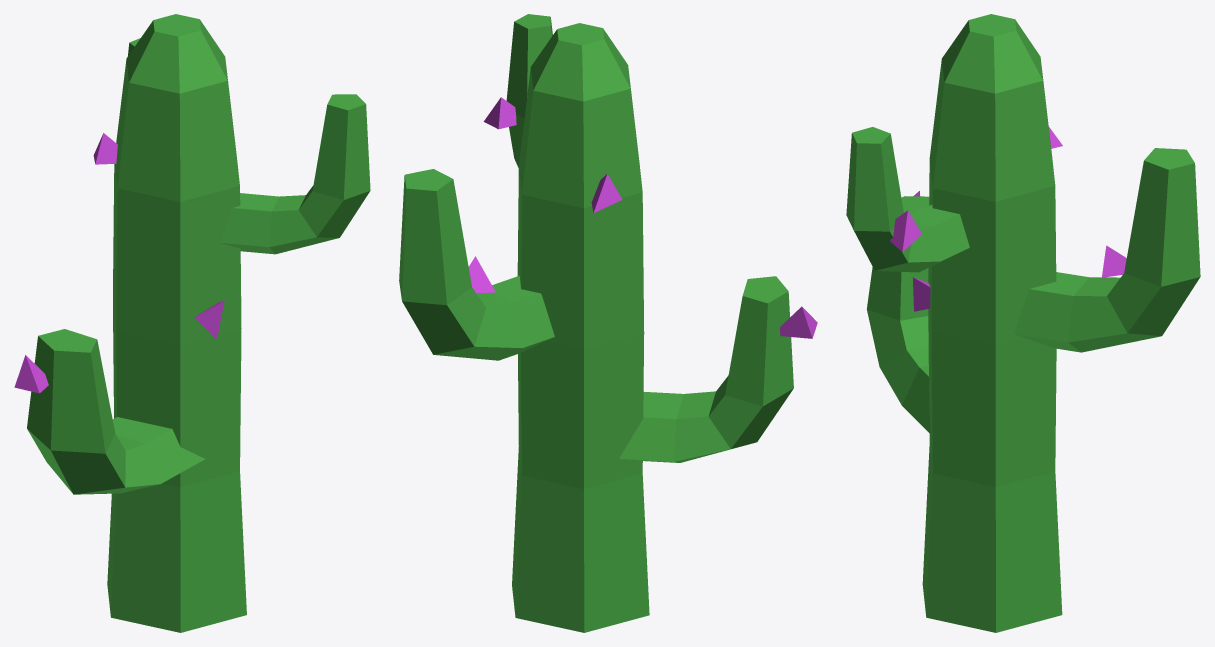
File: Cactus_7.fbx
3 views of the same model, side by side, from view 1: azimuth 30°, elevation 25°; view 2: azimuth 150°, elevation 25°; view 3: azimuth 270°, elevation 25° (orthographic).
Visible parts, largest first — view 1: Cactus, Arm, Arm.002, Flower.002, Flower, Flower.003; view 2: Cactus, Arm.001, Arm, Arm.002, Flower.002, Flower.001, Flower.003; view 3: Cactus, Arm.001, Arm.002, Arm, Flower.001, Flower.004, Flower.
Part boxes in pixels (x1,y1,x2,y2): Cactus: (107, 14, 246, 632); Arm: (27, 329, 204, 494); Arm.002: (219, 94, 370, 254); Flower.002: (14, 355, 48, 393); Flower: (194, 300, 224, 339); Flower.003: (93, 133, 117, 164); Cactus: (512, 23, 649, 632); Arm.001: (399, 169, 554, 360); Arm: (619, 276, 793, 462); Arm.002: (506, 14, 552, 167); Flower.002: (780, 306, 817, 338); Flower.001: (483, 97, 516, 129); Flower.003: (591, 174, 622, 213); Cactus: (922, 14, 1062, 632); Arm.001: (1014, 148, 1200, 352); Arm.002: (846, 127, 969, 272); Arm: (866, 196, 930, 433); Flower.001: (890, 210, 922, 251); Flower.004: (1102, 245, 1126, 277); Flower: (912, 277, 930, 311).
Bounding box in the file's own units: 63.22 × 101 × 56.61.
